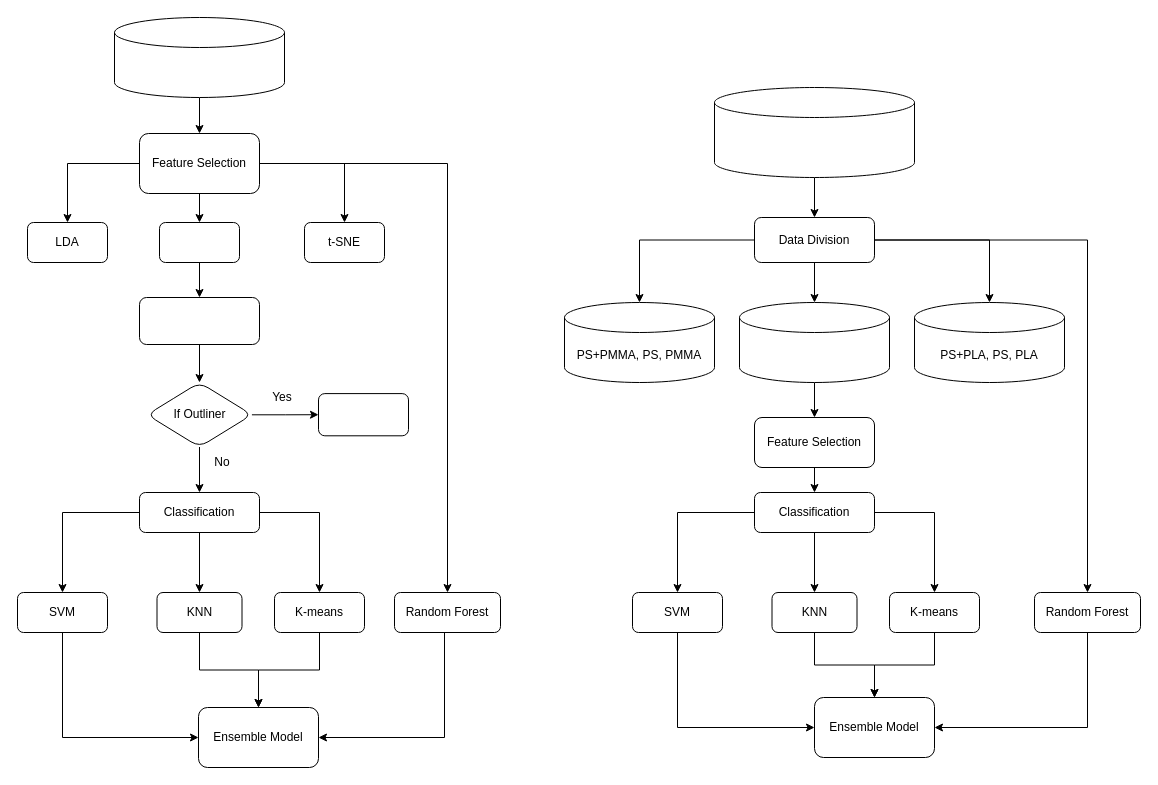
Some shapes in this 1158 by 785 pixel diagram are drawn without their labels. Each missing label, with the centre of its shape:
"Out" belongs at pixel 363 414.
"Outliner Detection" belongs at pixel 199 320.
"PCA" belongs at pixel 199 242.
"PE, PLA. PMMA, PS, UD" belongs at pixel 199 57.
"PS+PE, PS, PE" belongs at pixel 814 342.
"PS+PMMA, PS+PE, PS+PLA, PS, PMMA, PE, PLA" belongs at pixel 814 132.
